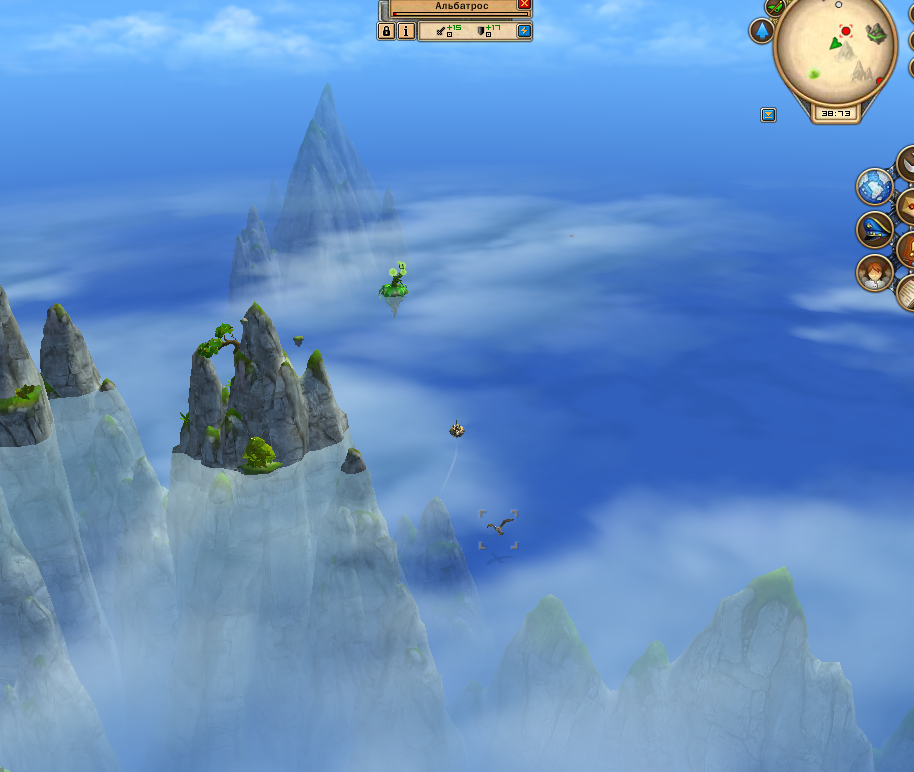dandelion-full: (375, 254, 410, 311)
